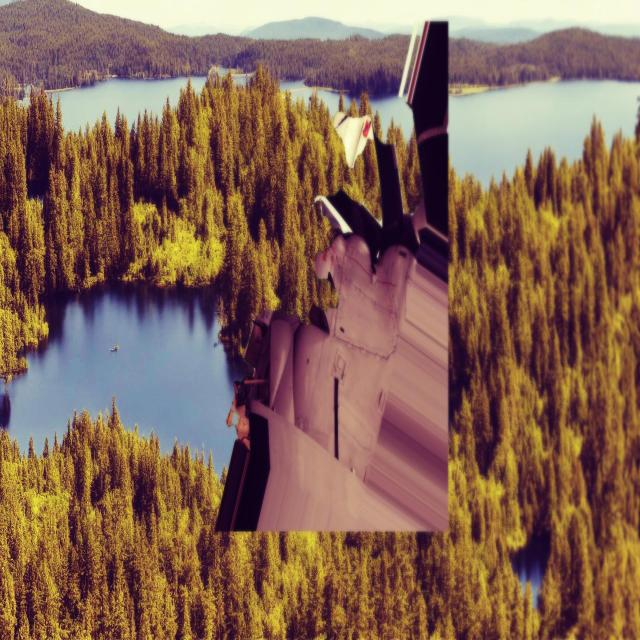airplane: (214, 19, 450, 532)
